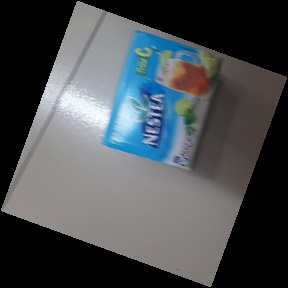Nestea: (100, 29, 223, 174)
